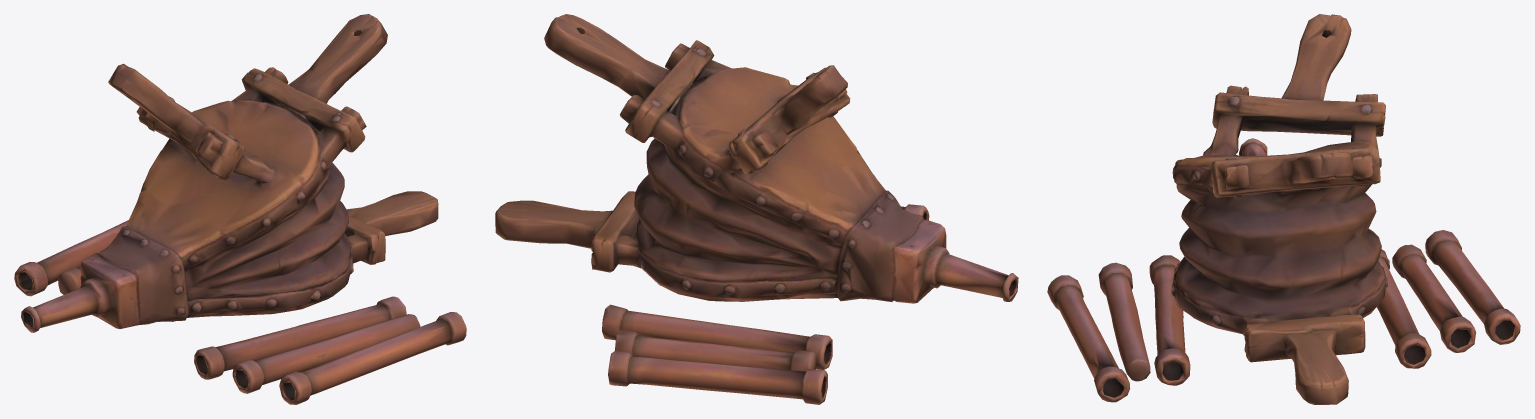
Rendered from bellows.glb.
3 renders of one model, left to right at view 1: azimuth 30°, elevation 25°; view 2: azimuth 150°, elevation 25°; view 3: azimuth 270°, elevation 25°, orthographic. The views are drawn at different scales.
Visible parts, largest first — view 1: tripo_node_3c8e18ea-010b-43e3-94a9-bce25ff6cd46; view 2: tripo_node_3c8e18ea-010b-43e3-94a9-bce25ff6cd46; view 3: tripo_node_3c8e18ea-010b-43e3-94a9-bce25ff6cd46.
Boxes of the visible parts, <box> form: tripo_node_3c8e18ea-010b-43e3-94a9-bce25ff6cd46: <box>14,14,466,404</box>; tripo_node_3c8e18ea-010b-43e3-94a9-bce25ff6cd46: <box>495,14,1018,404</box>; tripo_node_3c8e18ea-010b-43e3-94a9-bce25ff6cd46: <box>1047,14,1520,404</box>.
Bounding box in the file's own units: 0.9996 × 0.5547 × 0.8756.
Materials: 1 (1 with a texture image).
